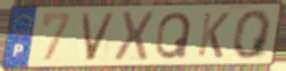7: (39, 10, 75, 65)
K: (195, 11, 232, 60)
Q: (231, 8, 274, 61), (153, 10, 194, 62)
V: (78, 12, 118, 63)
X: (112, 9, 157, 64)
